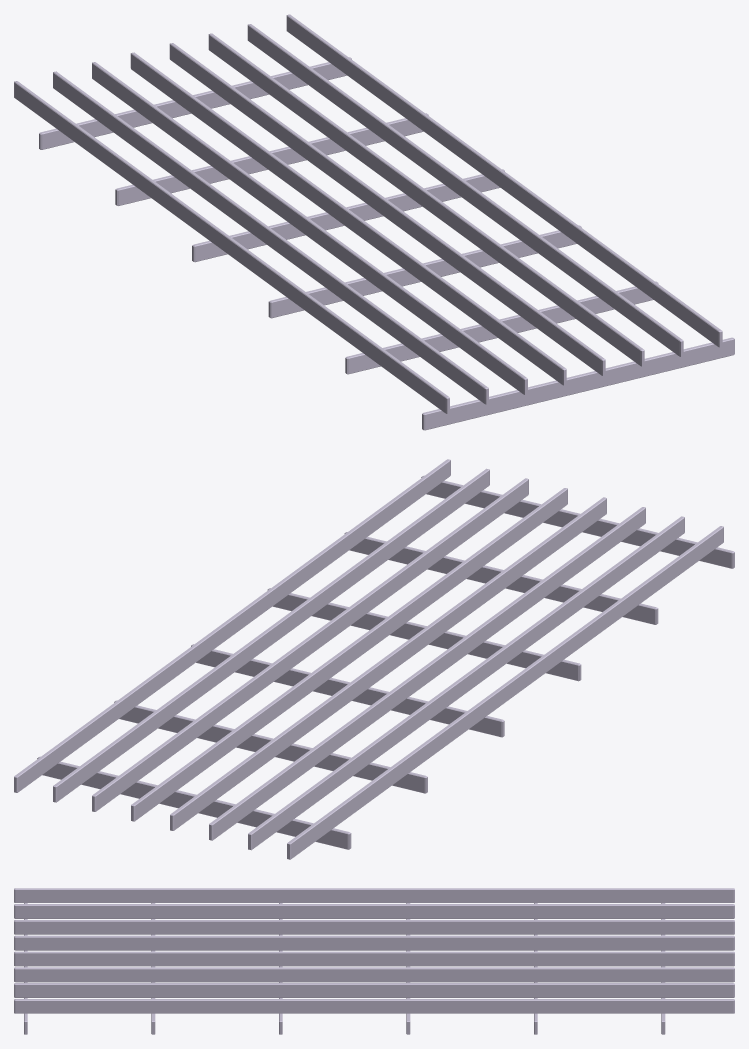
File: fishingHut_pier_plank_support.gltf
3 views of the same model, one above another, from view 1: azimuth 30°, elevation 25°; view 2: azimuth 150°, elevation 25°; view 3: azimuth 270°, elevation 25° (orthographic). The views are drawn at different scales.
Visible parts, largest first — view 1: runner.supports.length, runner.supports.width; view 2: runner.supports.length, runner.supports.width; view 3: runner.supports.length, runner.supports.width.
Part boxes in pixels (<box>): runner.supports.length: <box>14,14,722,413</box>; runner.supports.width: <box>39,57,734,430</box>; runner.supports.length: <box>14,459,723,859</box>; runner.supports.width: <box>37,475,734,849</box>; runner.supports.length: <box>14,888,734,1013</box>; runner.supports.width: <box>24,903,665,1034</box>.
Bounding box in the file's own units: 3.94 × 0.4006 × 9.5.
